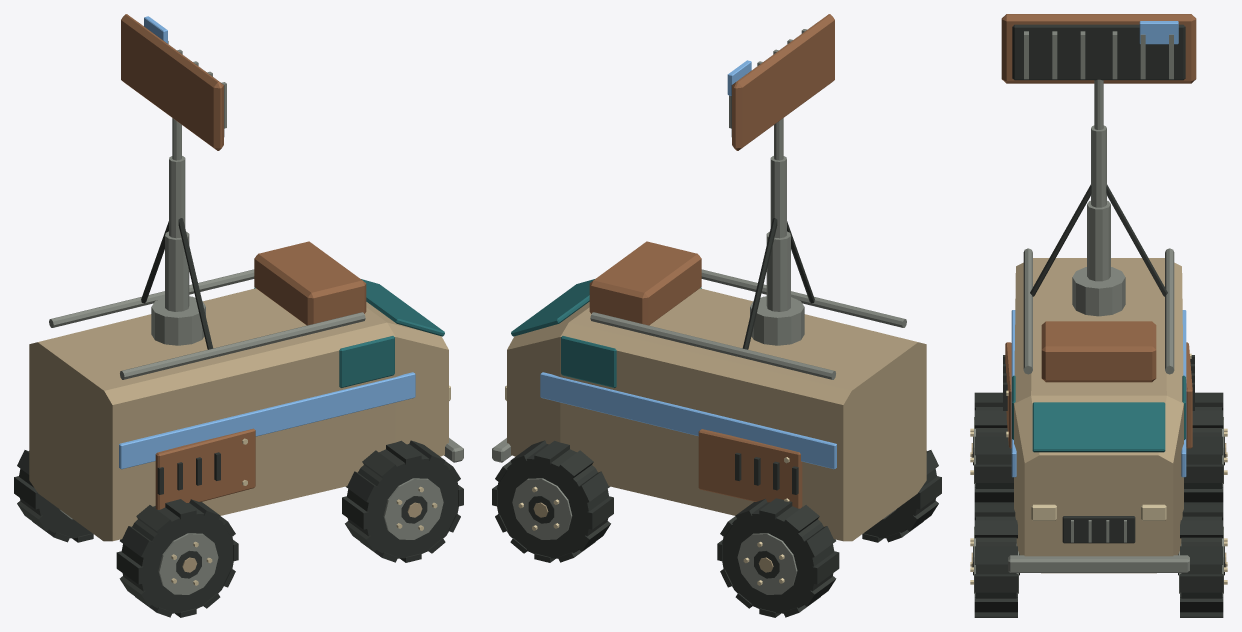
File: radar_van.glb
3 renders of one model, left to right at view 1: azimuth 30°, elevation 25°; view 2: azimuth 150°, elevation 25°; view 3: azimuth 270°, elevation 25°, orthographic.
Parts seen in each view (by area): view 1: radar_van; view 2: radar_van; view 3: radar_van.
Boxes of the visible parts, x1=… form: radar_van: x1=14, y1=14, x2=463, y2=617; radar_van: x1=492, y1=14, x2=941, y2=617; radar_van: x1=970, y1=14, x2=1227, y2=617.
Size of the model in its own units: 2.26 by 3.15 by 1.44.
